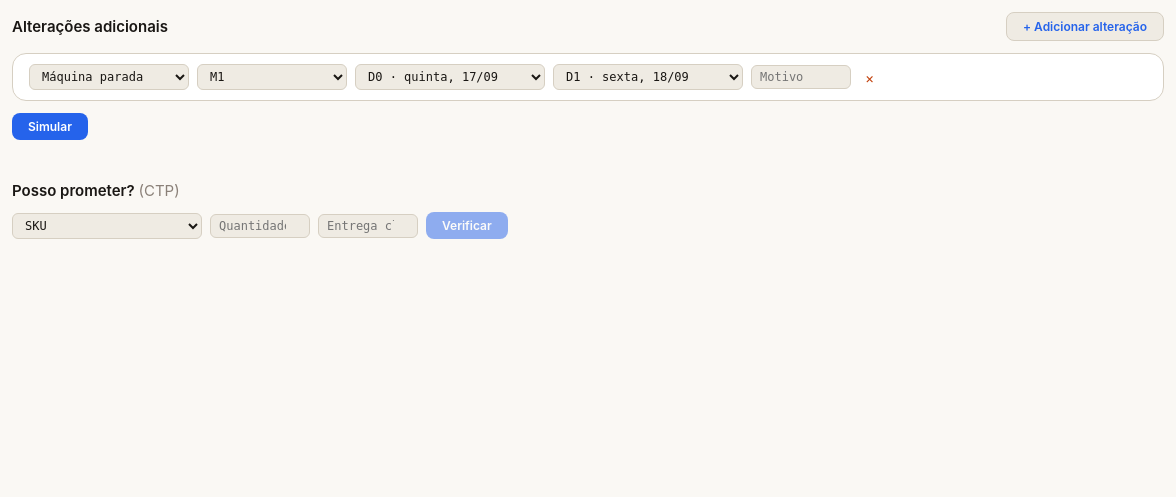
Scenario: invalidates the CTP card when the quantity changes
Select "SKU" in the dropdown named "SKU da promessa" at (107, 226), box [12,212,202,238]
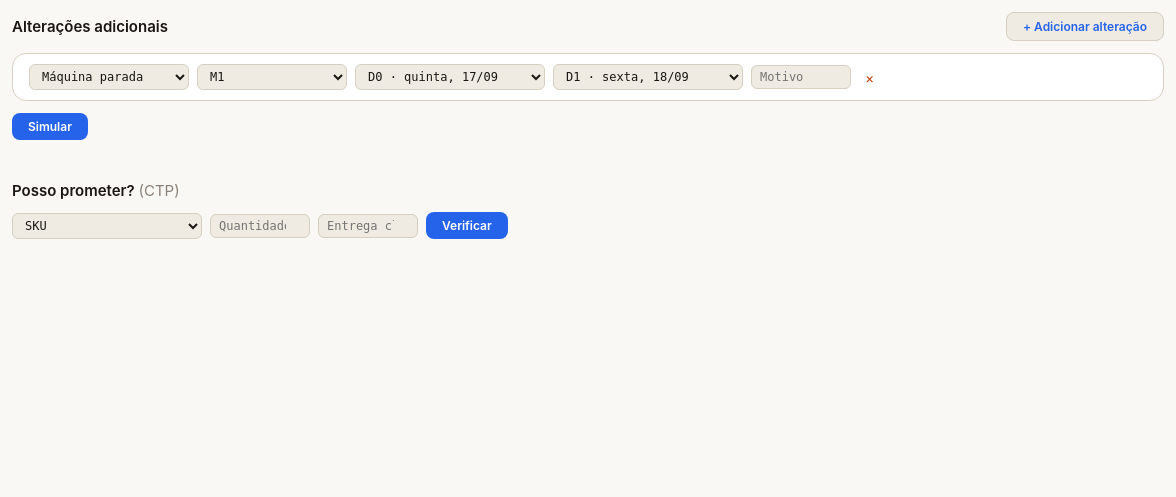
Type "10" into the number field with placeholder "Quantidade" at (260, 226), box [210,214,310,238]
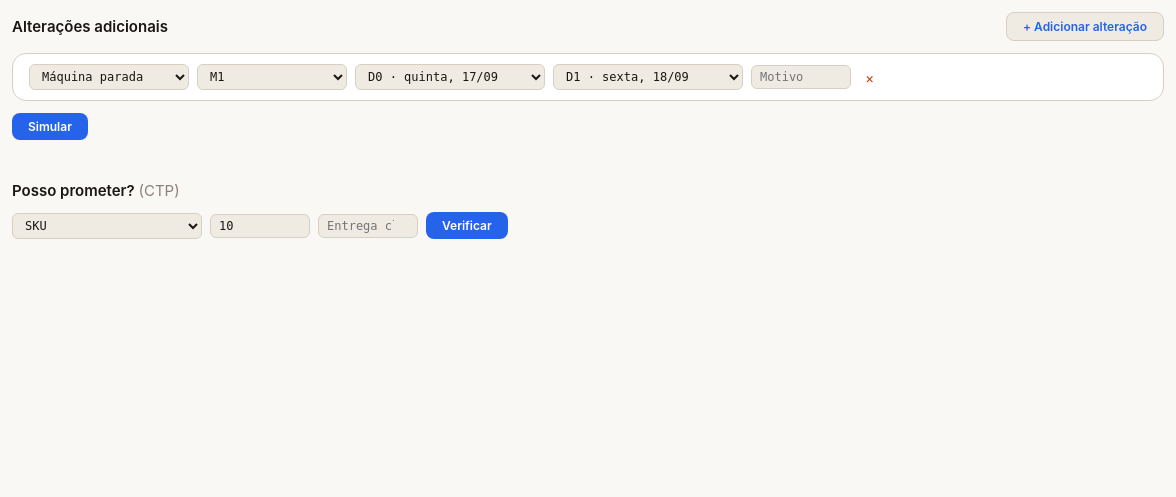
Type "1" into the number field with placeholder "Entrega cliente (dia)" at (368, 226), box [318,214,418,238]
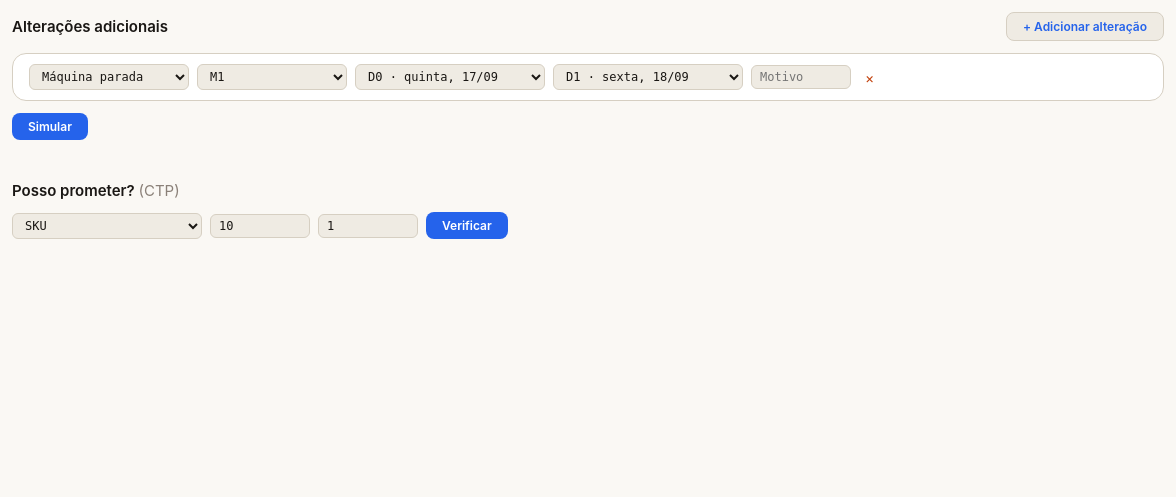
Click the button "Verificar" at (467, 226), box [426,212,508,239]
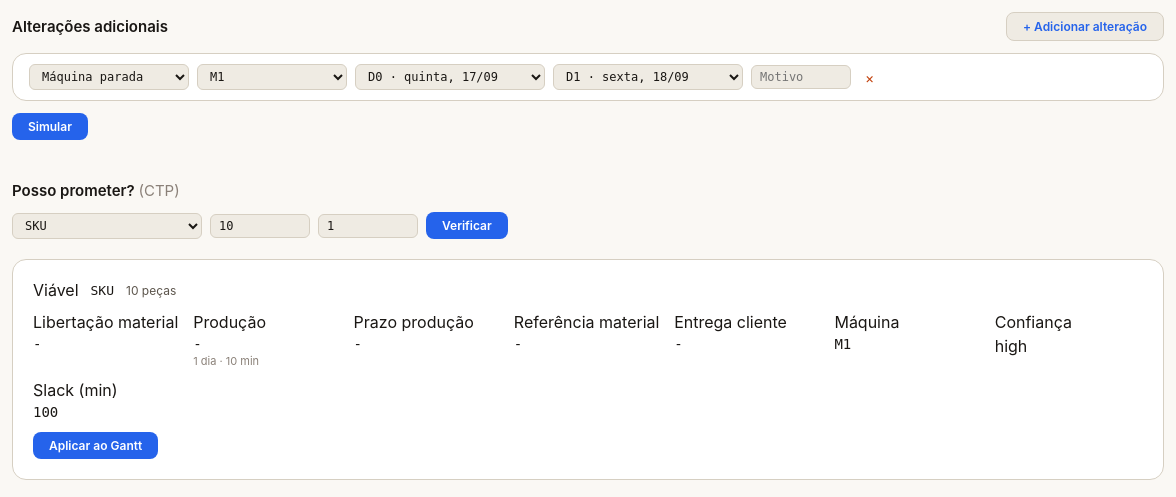
Replace the text in the 1st number field with placeholder "Quantidade" with "100" at (260, 226), box [210,214,310,238]
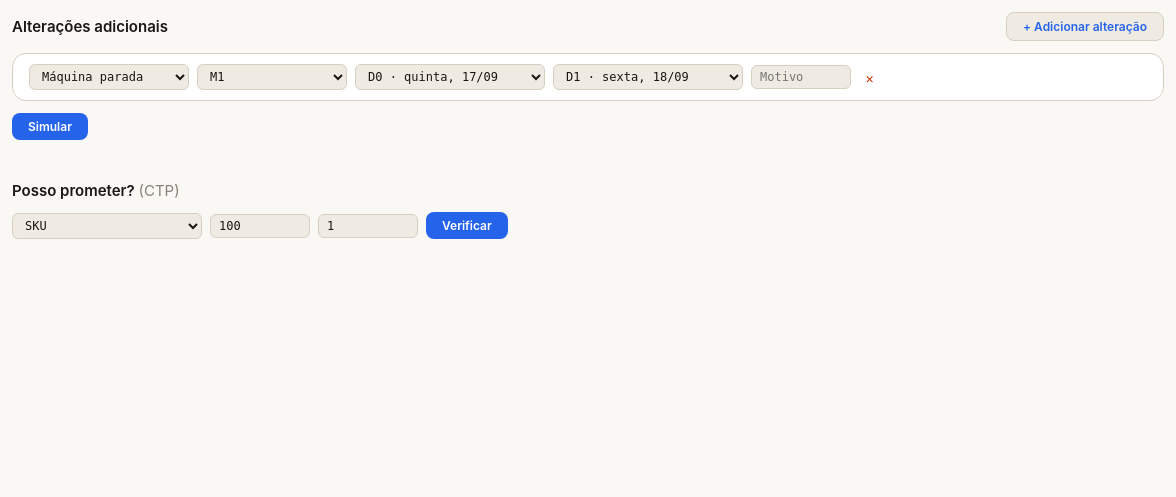
Now the button "Aplicar ao Gantt" is gone
